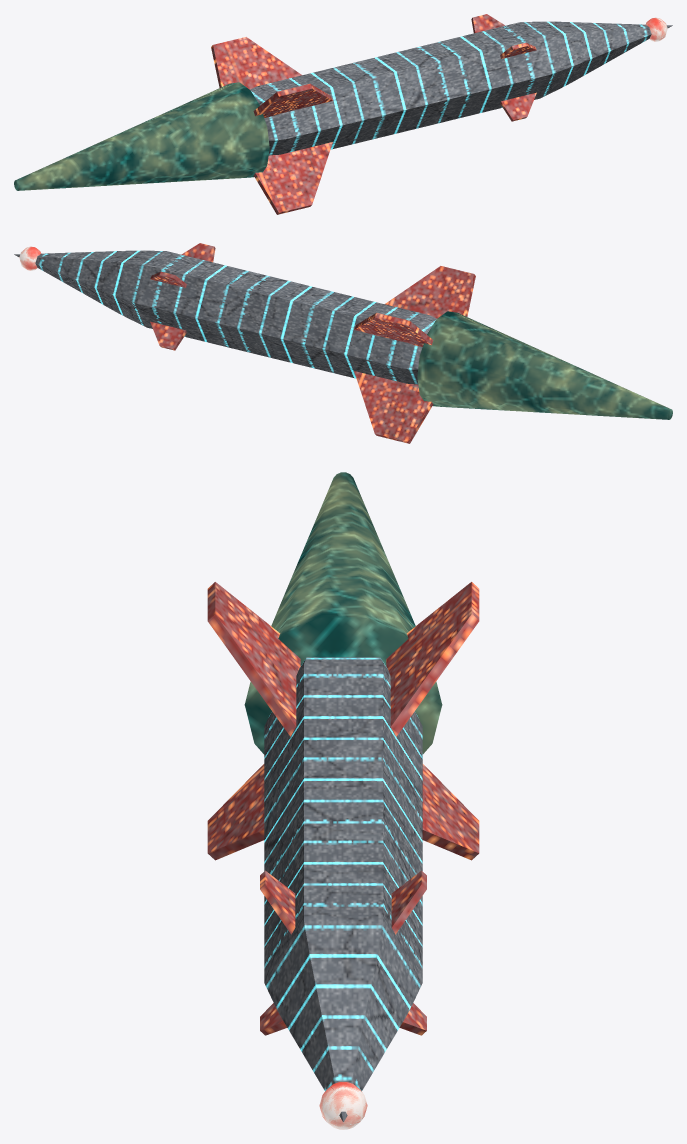
Rendered from missile_homing.glb.
The picture shows the model from 3 angles, top to bottom: view 1: azimuth 30°, elevation 25°; view 2: azimuth 150°, elevation 25°; view 3: azimuth 270°, elevation 25°; orthographic projection. The views are drawn at different scales.
Parts seen in each view (by area): view 1: missile_body, missile_exhaust_shell, missile_fins, missile_seeker; view 2: missile_body, missile_exhaust_shell, missile_fins, missile_seeker; view 3: missile_body, missile_fins, missile_exhaust_shell, missile_seeker.
Boxes of the visible parts, x1,y1,x2,y2 form: missile_body: (250, 21, 672, 155); missile_exhaust_shell: (14, 82, 269, 190); missile_fins: (211, 14, 536, 214); missile_seeker: (645, 17, 667, 41); missile_body: (14, 250, 436, 384); missile_exhaust_shell: (417, 311, 672, 419); missile_fins: (150, 243, 475, 443); missile_seeker: (19, 246, 41, 270); missile_body: (264, 657, 422, 1122); missile_fins: (207, 582, 479, 1035); missile_exhaust_shell: (244, 472, 442, 754); missile_seeker: (319, 1082, 367, 1129).
Bounding box in the file's own units: 6.9 × 1.24 × 1.24.
6 materials, 6 textured.
